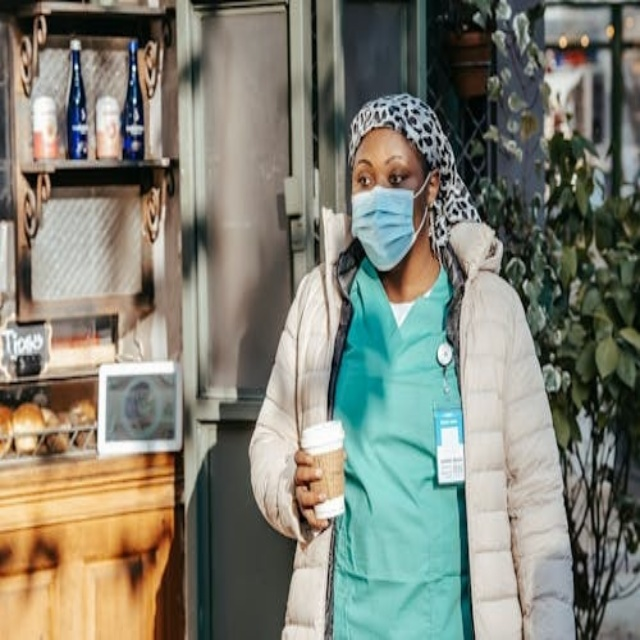Mascara: (350, 172, 429, 270)
Sin_gafas: (351, 152, 408, 188)
Sin_guantes: (293, 446, 337, 537)
